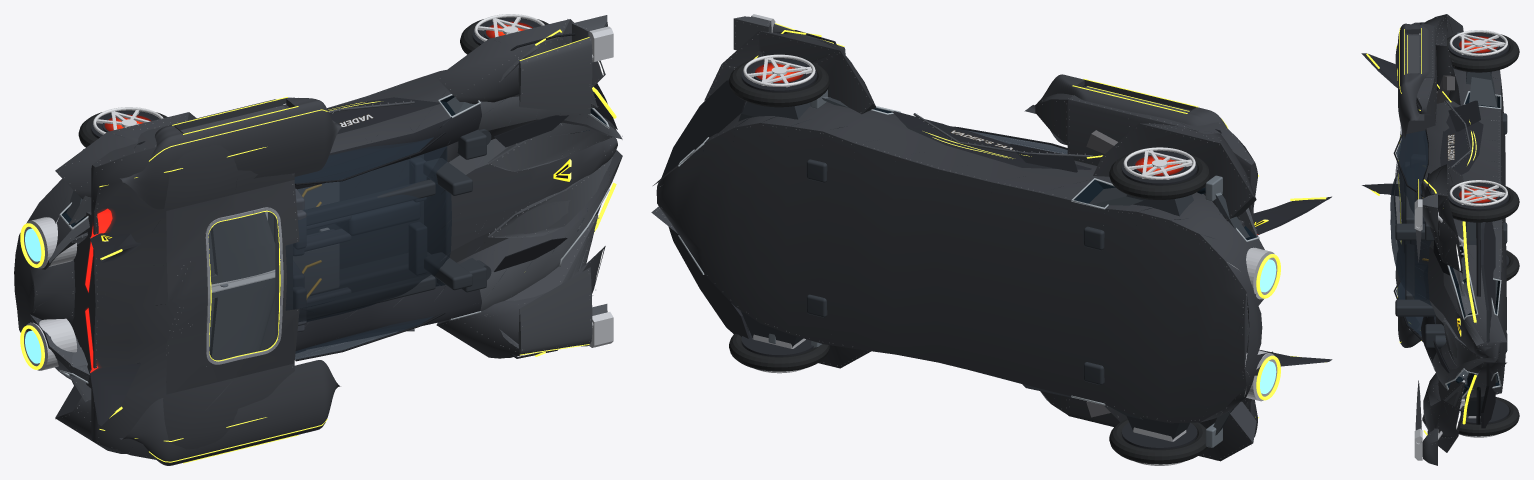
Rendered from phantom-a10-visual.glb.
3 views of the same model, side by side, from view 1: azimuth 30°, elevation 25°; view 2: azimuth 150°, elevation 25°; view 3: azimuth 270°, elevation 25° (orthographic). The views are drawn at different scales.
Visible parts, largest first — view 1: PHANTOM_A8_INTEGRATED_DUCTED_FACETED_CFRP_HULL, VTX_VISUAL_WING_CASSETTE_COWLS, A10_SLEEVE_CARRY_THROUGH_BOX, PHANTOM_FRONT_RIGHT_WIDEBODY_ANGULAR_FENDER, A10_CANARD_L_ALL_MOVING_BLADE, A10_CANARD_R_ALL_MOVING_BLADE, A10_WING_L_PANEL_CFRP_TORSION_BOX, TUB_001_CFRP_NOMEX_SANDWICH_FLOOR, A10_WING_R_PANEL_CFRP_TORSION_BOX, PHANTOM_FRONT_LEFT_WIDEBODY_ANGULAR_FENDER, PHANTOM_LEFT_SPEAR_BONNET_RIDGE, PHANTOM_RIGHT_SPEAR_BONNET_RIDGE (+29 smaller); view 2: PHANTOM_A8_INTEGRATED_DUCTED_FACETED_CFRP_HULL, PHANTOM_REAR_RIGHT_WIDEBODY_ANGULAR_FENDER, PHANTOM_FRONT_RIGHT_WIDEBODY_ANGULAR_FENDER, VTX_VISUAL_WING_CASSETTE_COWLS, PHANTOM_RIGHT_RAPTOR_NOSE_SPLITTER, PHANTOM_RIGHT_BLACK_INVERTED_SPEAR_DOOR, WHEEL_RR_CLOSED_TYRE, WHEEL_FR_CLOSED_TYRE, WHEEL_RL_CLOSED_TYRE, PHANTOM_REAR_LEFT_WIDEBODY_ANGULAR_FENDER, PHANTOM_LEFT_RAPTOR_NOSE_SPLITTER, WHEEL_FL_CLOSED_TYRE (+14 smaller); view 3: PHANTOM_A8_INTEGRATED_DUCTED_FACETED_CFRP_HULL, VTX_VISUAL_WING_CASSETTE_COWLS, PHANTOM_FRONT_RIGHT_WIDEBODY_ANGULAR_FENDER, PHANTOM_FRONT_LEFT_WIDEBODY_ANGULAR_FENDER, PHANTOM_RIGHT_BLACK_INVERTED_SPEAR_DOOR, PHANTOM_RIGHT_TRIANGULAR_COUPÉ_SIDEGLASS, PHANTOM_REAR_RIGHT_WIDEBODY_ANGULAR_FENDER, PHANTOM_RIGHT_RAPTOR_NOSE_SPLITTER, WHEEL_RR_CLOSED_TYRE, WHEEL_FR_CLOSED_TYRE, WHEEL_FL_CLOSED_TYRE, PHANTOM_LEFT_SPEAR_BONNET_RIDGE (+43 smaller).
Part boxes in pixels (x1,y1,x2,y2): PHANTOM_A8_INTEGRATED_DUCTED_FACETED_CFRP_HULL: (14, 70, 622, 459); VTX_VISUAL_WING_CASSETTE_COWLS: (119, 97, 341, 465); A10_SLEEVE_CARRY_THROUGH_BOX: (209, 210, 275, 359); PHANTOM_FRONT_RIGHT_WIDEBODY_ANGULAR_FENDER: (436, 19, 605, 104); A10_CANARD_L_ALL_MOVING_BLADE: (518, 267, 592, 354); A10_CANARD_R_ALL_MOVING_BLADE: (518, 37, 592, 113); A10_WING_L_PANEL_CFRP_TORSION_BOX: (209, 278, 275, 361); TUB_001_CFRP_NOMEX_SANDWICH_FLOOR: (307, 154, 423, 268); A10_WING_R_PANEL_CFRP_TORSION_BOX: (210, 212, 275, 284); PHANTOM_FRONT_LEFT_WIDEBODY_ANGULAR_FENDER: (436, 246, 605, 358); PHANTOM_LEFT_SPEAR_BONNET_RIDGE: (488, 157, 612, 237); PHANTOM_RIGHT_SPEAR_BONNET_RIDGE: (488, 123, 612, 171); PHANTOM_A8_INTEGRATED_DUCTED_FACETED_CFRP_HULL: (651, 86, 1275, 437); PHANTOM_REAR_RIGHT_WIDEBODY_ANGULAR_FENDER: (1093, 123, 1256, 221); PHANTOM_FRONT_RIGHT_WIDEBODY_ANGULAR_FENDER: (704, 31, 875, 128); VTX_VISUAL_WING_CASSETTE_COWLS: (1024, 74, 1233, 150); PHANTOM_RIGHT_RAPTOR_NOSE_SPLITTER: (661, 79, 745, 177); PHANTOM_RIGHT_BLACK_INVERTED_SPEAR_DOOR: (892, 111, 1091, 169); WHEEL_RR_CLOSED_TYRE: (1109, 150, 1209, 199); WHEEL_FR_CLOSED_TYRE: (729, 58, 829, 107); WHEEL_RL_CLOSED_TYRE: (1109, 419, 1207, 464); PHANTOM_REAR_LEFT_WIDEBODY_ANGULAR_FENDER: (1104, 401, 1256, 461); PHANTOM_LEFT_RAPTOR_NOSE_SPLITTER: (668, 226, 750, 338); WHEEL_FL_CLOSED_TYRE: (729, 326, 829, 371); PHANTOM_A8_INTEGRATED_DUCTED_FACETED_CFRP_HULL: (1390, 22, 1506, 397); VTX_VISUAL_WING_CASSETTE_COWLS: (1398, 23, 1430, 347); PHANTOM_FRONT_RIGHT_WIDEBODY_ANGULAR_FENDER: (1423, 164, 1463, 273); PHANTOM_FRONT_LEFT_WIDEBODY_ANGULAR_FENDER: (1423, 369, 1462, 452); PHANTOM_RIGHT_BLACK_INVERTED_SPEAR_DOOR: (1440, 106, 1483, 174); PHANTOM_RIGHT_TRIANGULAR_COUPÉ_SIDEGLASS: (1395, 130, 1428, 192); PHANTOM_REAR_RIGHT_WIDEBODY_ANGULAR_FENDER: (1424, 14, 1463, 105); PHANTOM_RIGHT_RAPTOR_NOSE_SPLITTER: (1481, 221, 1495, 342); WHEEL_RR_CLOSED_TYRE: (1447, 32, 1519, 72); WHEEL_FR_CLOSED_TYRE: (1447, 182, 1519, 222); WHEEL_FL_CLOSED_TYRE: (1459, 397, 1519, 436); PHANTOM_LEFT_SPEAR_BONNET_RIDGE: (1443, 319, 1482, 366).
Bounding box in the file's own units: 4.92 × 2.6 × 1.4.
Materials: 38 (4 with a texture image).
